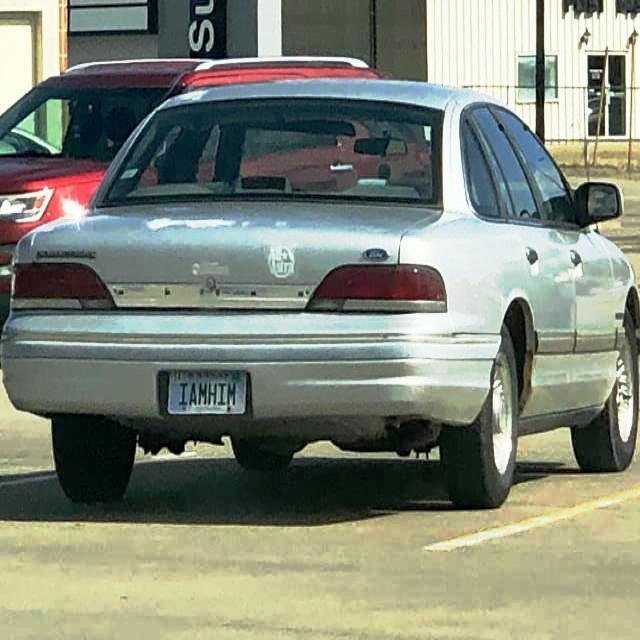license_plate: (168, 368, 251, 417)
